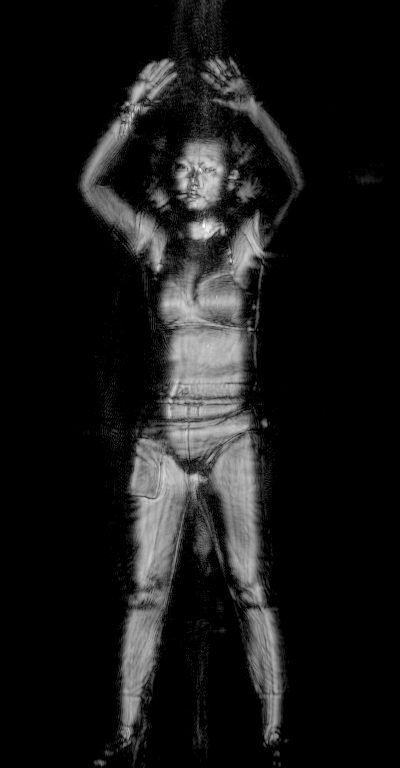head: (167, 136, 240, 221)
others: (125, 434, 166, 501), (115, 98, 142, 142)
person: (75, 52, 306, 768)
